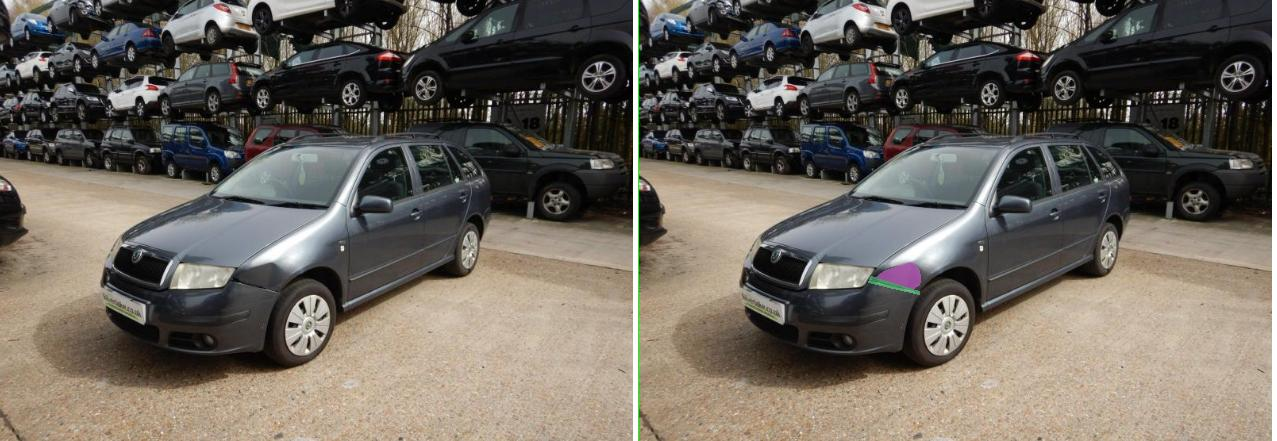Broken part: (458, 276, 560, 294)
Dent: (468, 262, 562, 289)
